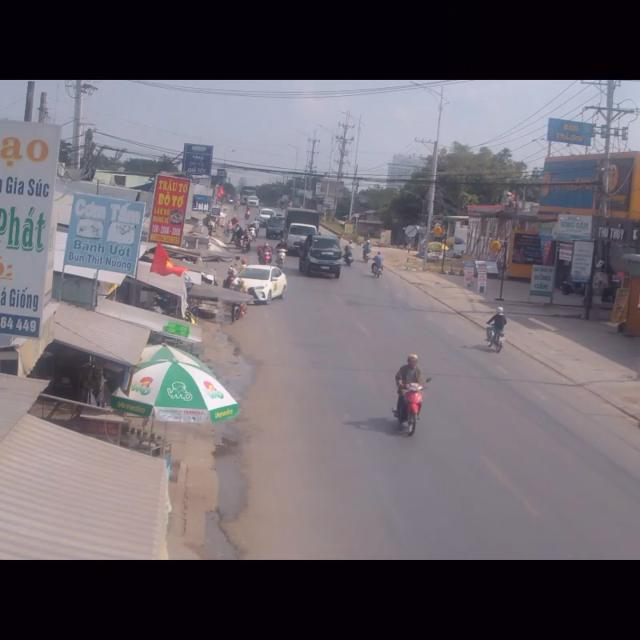motorbike: (392, 352, 428, 438), (485, 307, 505, 354)
truck: (295, 230, 345, 280)
